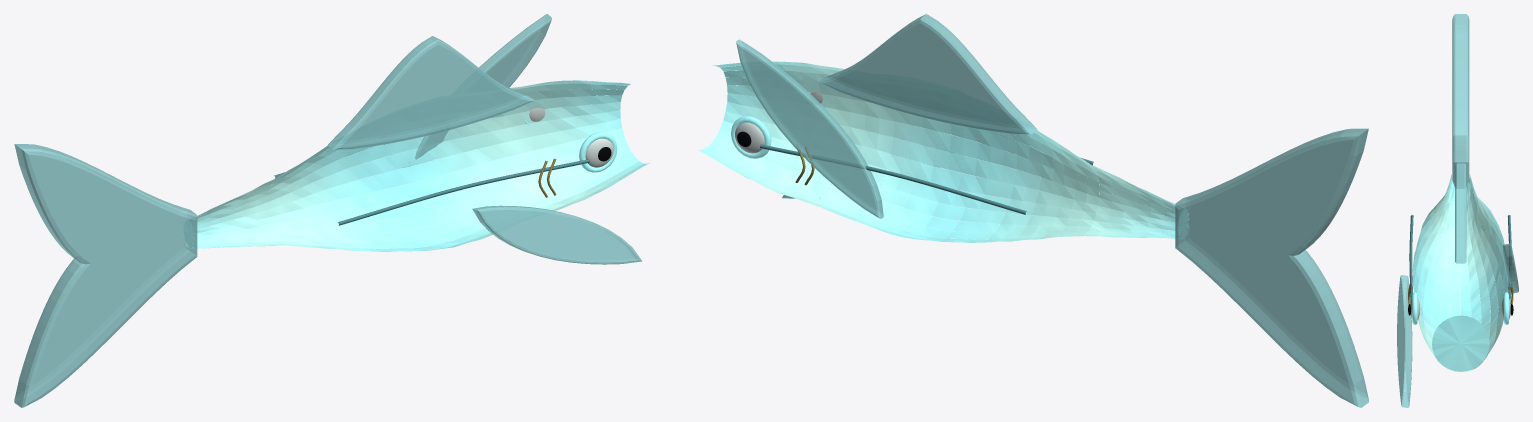
Rendered from sun-sardine.glb.
3 renders of one model, left to right at view 1: azimuth 30°, elevation 25°; view 2: azimuth 150°, elevation 25°; view 3: azimuth 270°, elevation 25°, orthographic. The views are drawn at different scales.
Parts seen in each view (by area): view 1: body, tail_fin, dorsal_fin, pectoral_fin (×2), lateral_line, eye_socket; view 2: body, tail_fin, dorsal_fin, pectoral_fin, lateral_line, eye_socket; view 3: body, tail_fin, pectoral_fin (×2), dorsal_fin, lateral_line (×2), eye_socket (×2).
Boxes of the visible parts, box(x1,y1,x2,y2) form: body: box(184, 80, 648, 251); tail_fin: box(14, 144, 197, 407); dorsal_fin: box(327, 36, 533, 149); pectoral_fin (×2): box(403, 14, 641, 264); lateral_line: box(338, 159, 589, 225); eye_socket: box(579, 132, 617, 172); body: box(699, 61, 1189, 242); tail_fin: box(1175, 128, 1368, 407); dorsal_fin: box(819, 14, 1037, 134); pectoral_fin: box(736, 39, 883, 218); lateral_line: box(760, 144, 1026, 214); eye_socket: box(731, 116, 771, 158); body: box(1412, 172, 1508, 371); tail_fin: box(1452, 14, 1469, 194); pectoral_fin (×2): box(1397, 243, 1518, 407); dorsal_fin: box(1455, 162, 1466, 263); lateral_line (×2): box(1409, 215, 1511, 303); eye_socket (×2): box(1412, 292, 1508, 324).
Size of the model in its own units: 3.3 by 1.35 by 0.734.
